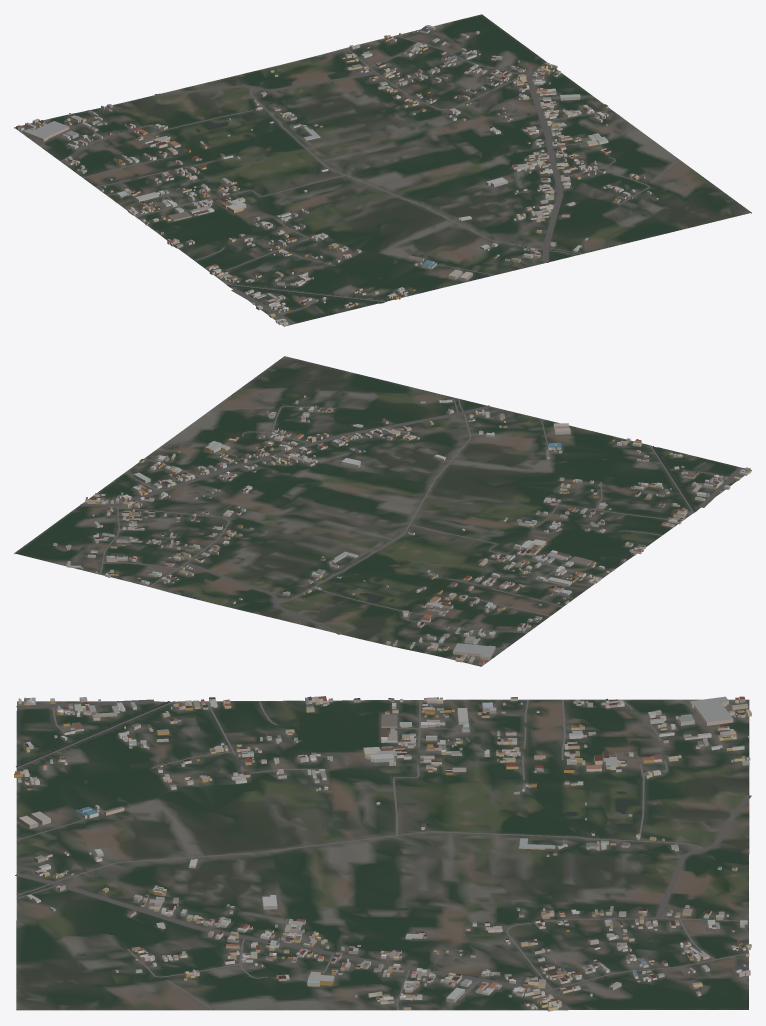
3 renders of one model, top to bottom at view 1: azimuth 30°, elevation 25°; view 2: azimuth 150°, elevation 25°; view 3: azimuth 270°, elevation 25°, orthographic. The views are drawn at different scales.
Visible parts, largest first — view 1: ground, buildings, roads; view 2: ground, buildings, roads; view 3: ground, buildings, roads, water.
Boxes of the visible parts, box(x1,y1,x2,y2) form: ground: box(14, 14, 751, 326); buildings: box(16, 25, 658, 325); roads: box(38, 35, 679, 324); ground: box(14, 356, 751, 666); buildings: box(53, 395, 750, 665); roads: box(80, 397, 744, 648); ground: box(16, 699, 749, 1010); buildings: box(14, 696, 751, 1011); roads: box(15, 699, 751, 1010); water: box(16, 701, 639, 827).
Bounding box in the file's own units: 1414 × 18.9 × 1411.
